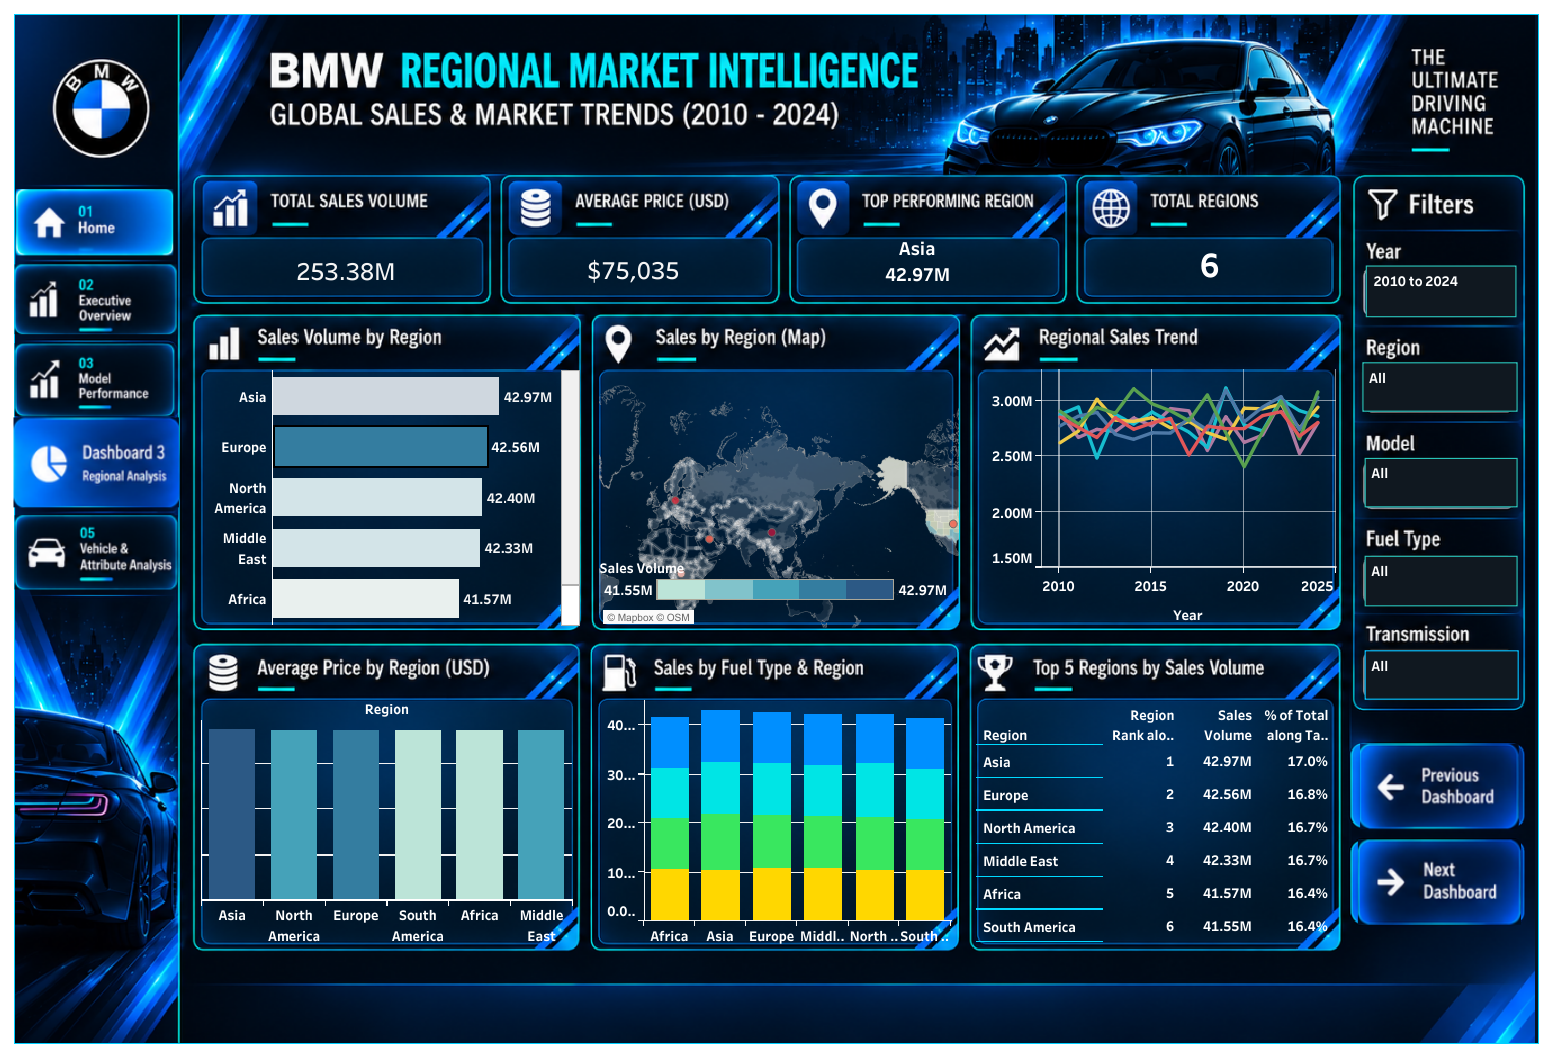

The dashboard page shown, as its layout file describes it:
{"tool":"tableau","page":{"name":"Dashboard 3","canvas":[1380,940],"ordinal":2},"visuals":[{"type":"image","param":"Image/Futuristic BMW Regional Intelligence Dashboard.png","box":[8,8,1364,924]},{"type":"dashboard-object","box":[13,166,142,64]},{"type":"worksheet","title":"Top Performing Region","mark":"Text","box":[776,209,127,59]},{"type":"worksheet","title":"Total Region","mark":"Automatic","box":[1028,214,122,52]},{"type":"worksheet","title":"KPI - Average Price","mark":"Text","rows":["Price_USD"],"box":[471,227,185,45]},{"type":"dashboard-object","box":[13,231,144,71]},{"type":"worksheet","title":"KPI- Total Sales Volume","mark":"Text","rows":["Sales_Volume"],"box":[205,231,206,113]},{"type":"filter","title":"Region Sales Trends (2010 - 2024) ","param":"[federated.18z69gv0p5a0b11arvxvz0n9zdok].[none:Year:qk]","box":[1214,236,134,46]},{"type":"dashboard-object","box":[13,303,142,69]},{"type":"filter","title":"Sales by Fuel Type & Region","param":"[federated.18z69gv0p5a0b11arvxvz0n9zdok].[none:Region:nk]","box":[1211,322,138,44]},{"type":"worksheet","title":"Region Sales Trends (2010 - 2024) ","mark":"Automatic","rows":["Sales_Volume"],"cols":["Year"],"box":[869,328,318,227]},{"type":"worksheet","title":"Sales Volume by Region","mark":"Bar","rows":["Region"],"cols":["Sales_Volume"],"box":[178,329,338,227]},{"type":"worksheet","title":"Sales Volume by Region (Map)","mark":"Multipolygon","box":[532,329,320,229]},{"type":"dashboard-object","box":[12,371,147,80]},{"type":"filter","title":"Sales by Fuel Type & Region","param":"[federated.18z69gv0p5a0b11arvxvz0n9zdok].[none:Model:nk]","box":[1213,407,136,44]},{"type":"dashboard-object","box":[13,455,145,73]},{"type":"legend","title":"Sales Volume by Region","param":"[federated.18z69gv0p5a0b11arvxvz0n9zdok].[sum:Sales_Volume:qk]","box":[533,491,314,64]},{"type":"filter","title":"Sales by Fuel Type & Region","param":"[federated.18z69gv0p5a0b11arvxvz0n9zdok].[none:Fuel_Type:nk]","box":[1213,494,136,45]},{"type":"filter","title":"Sales Volume by Region","param":"[federated.18z69gv0p5a0b11arvxvz0n9zdok].[none:Transmission:nk]","box":[1213,578,137,44]},{"type":"worksheet","title":"Average Price by Region (USD)","mark":"Bar","rows":["Price_USD"],"cols":["Region"],"box":[179,620,334,221]},{"type":"worksheet","title":"Sales by Fuel Type & Region","mark":"Automatic","rows":["Sales_Volume"],"cols":["Region"],"box":[532,622,313,220]},{"type":"worksheet","title":"Top 5 Region by Sales Value","mark":"Text","rows":["Region"],"box":[868,622,318,216]},{"type":"dashboard-object","box":[1197,661,165,76]},{"type":"dashboard-object","box":[1201,746,157,76]}]}

Visuals, with their boxes in screenshot pixels (x1, y1, x2, y2), scaled from the page's 1380x940 canvas onto the 1551x1056 screenshot:
image: [left=9, top=9, right=1542, bottom=1047]
dashboard-object: [left=15, top=186, right=174, bottom=258]
"Top Performing Region" worksheet (Text marks): [left=872, top=235, right=1015, bottom=301]
"Total Region" worksheet: [left=1155, top=240, right=1292, bottom=299]
"KPI - Average Price" worksheet (Text marks): [left=529, top=255, right=737, bottom=306]
dashboard-object: [left=15, top=260, right=176, bottom=339]
"KPI- Total Sales Volume" worksheet (Text marks): [left=230, top=260, right=462, bottom=386]
"Region Sales Trends (2010 - 2024) " filter: [left=1364, top=265, right=1515, bottom=317]
dashboard-object: [left=15, top=340, right=174, bottom=418]
"Sales by Fuel Type & Region" filter: [left=1361, top=362, right=1516, bottom=411]
"Region Sales Trends (2010 - 2024) " worksheet: [left=977, top=368, right=1334, bottom=623]
"Sales Volume by Region" worksheet (Bar marks): [left=200, top=370, right=580, bottom=625]
"Sales Volume by Region (Map)" worksheet (Multipolygon marks): [left=598, top=370, right=958, bottom=627]
dashboard-object: [left=13, top=417, right=179, bottom=507]
"Sales by Fuel Type & Region" filter: [left=1363, top=457, right=1516, bottom=507]
dashboard-object: [left=15, top=511, right=178, bottom=593]
"Sales Volume by Region" legend: [left=599, top=552, right=952, bottom=623]
"Sales by Fuel Type & Region" filter: [left=1363, top=555, right=1516, bottom=606]
"Sales Volume by Region" filter: [left=1363, top=649, right=1517, bottom=699]
"Average Price by Region (USD)" worksheet (Bar marks): [left=201, top=697, right=577, bottom=945]
"Sales by Fuel Type & Region" worksheet: [left=598, top=699, right=950, bottom=946]
"Top 5 Region by Sales Value" worksheet (Text marks): [left=976, top=699, right=1333, bottom=941]
dashboard-object: [left=1345, top=743, right=1531, bottom=828]
dashboard-object: [left=1350, top=838, right=1526, bottom=923]
